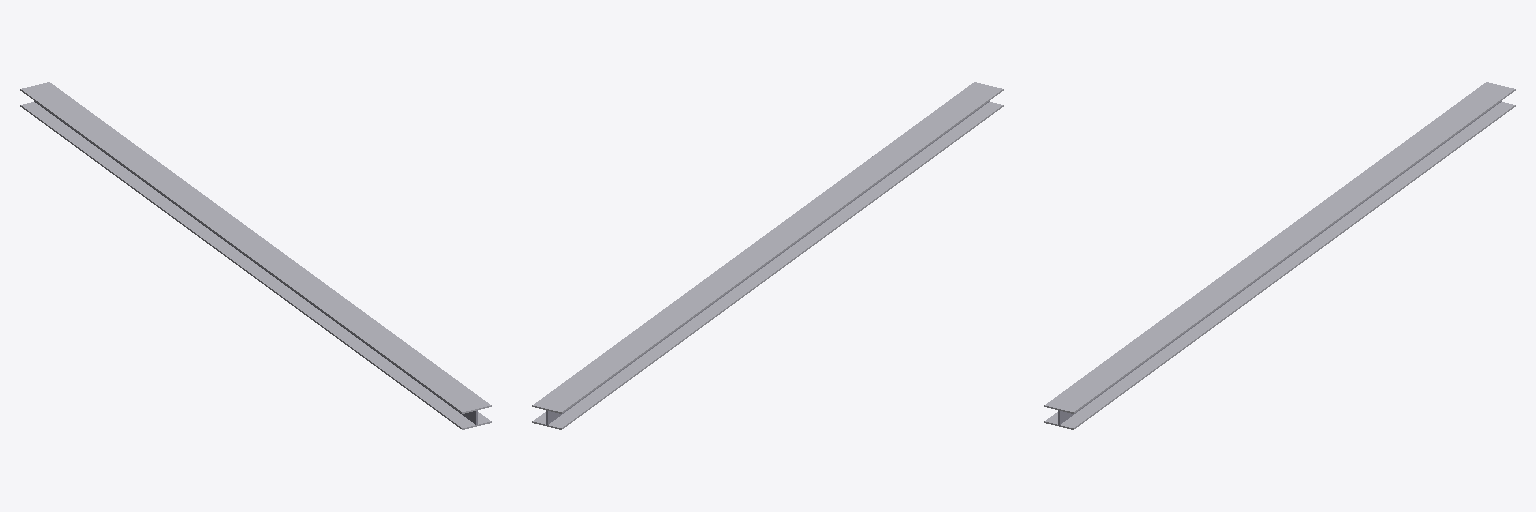
URDF robot description (h_bar):
<?xml version="1.0" ?>
<!-- =================================================================================== -->
<!-- |    This document was autogenerated by xacro from h_bar.xacro                    | -->
<!-- |    EDITING THIS FILE BY HAND IS NOT RECOMMENDED                                 | -->
<!-- =================================================================================== -->
<robot name="h_bar">
  <link name="world"/>
  <!-- Bottom leg (aligned with z-axis after rotation, below origin) -->
  <link name="hbar_bottom_leg">
    <visual>
      <origin rpy="0 1.57079633 0" xyz="0 0 0"/>
      <geometry>
        <!-- thickness x, profile width y, leg length along local z -->
        <box size="0.01 5.0 0.19"/>
      </geometry>
      <material name="hbar_material_bottom">
        <!-- Brushed steel-like gray -->
        <color rgba="0.75 0.75 0.78 1.0"/>
      </material>
    </visual>
    <collision>
      <origin rpy="0 1.57079633 0" xyz="0 0 0"/>
      <geometry>
        <box size="0.01 5.0 0.19"/>
      </geometry>
    </collision>
    <inertial>
      <origin rpy="0 0 0" xyz="0 0 0"/>
      <mass value="0.3333333333333333"/>
      <inertia ixx="0.6954472222222222" ixy="0.0" ixz="0.0" iyy="0.0010055555555555555" iyz="0.0" izz="0.6944472222222222"/>
    </inertial>
  </link>
  <!-- Top leg (aligned with z-axis after rotation, above origin) -->
  <link name="hbar_top_leg">
    <visual>
      <origin rpy="0 1.57079633 0" xyz="0 0 0"/>
      <geometry>
        <box size="0.01 5.0 0.19"/>
      </geometry>
      <material name="hbar_material_top">
        <!-- Brushed steel-like gray -->
        <color rgba="0.75 0.75 0.78 1.0"/>
      </material>
    </visual>
    <collision>
      <origin rpy="0 1.57079633 0" xyz="0 0 0"/>
      <geometry>
        <box size="0.01 5.0 0.19"/>
      </geometry>
    </collision>
    <inertial>
      <origin rpy="0 0 0" xyz="0 0 0"/>
      <mass value="0.3333333333333333"/>
      <inertia ixx="0.6954472222222222" ixy="0.0" ixz="0.0" iyy="0.0010055555555555555" iyz="0.0" izz="0.6944472222222222"/>
    </inertial>
  </link>
  <!-- Crossbar: vertical (aligned with z-axis) at the origin -->
  <link name="hbar_crossbar">
    <visual>
      <!-- Thickness in x,y, length in z -->
      <origin rpy="0 0 0" xyz="0 0 0"/>
      <geometry>
        <box size="0.01 5.0 0.1"/>
      </geometry>
      <material name="hbar_material_cross">
        <!-- Slightly darker steel for visual contrast -->
        <color rgba="0.65 0.65 0.7 1.0"/>
      </material>
    </visual>
    <collision>
      <origin rpy="0 0 0" xyz="0 0 0"/>
      <geometry>
        <box size="0.01 5.0 0.1"/>
      </geometry>
    </collision>
    <inertial>
      <origin rpy="0 0 0" xyz="0 0 0"/>
      <mass value="0.3333333333333333"/>
      <inertia ixx="0.6947222222222222" ixy="0.0" ixz="0.0" iyy="0.0002805555555555556" iyz="0.0" izz="0.6944472222222222"/>
    </inertial>
  </link>
  <!-- Fix crossbar to world; its center is at the macro pose -->
  <joint name="hbar_cross_fix" type="fixed">
    <parent link="world"/>
    <child link="hbar_crossbar"/>
    <origin rpy="0 0 0" xyz="0 0 0"/>
  </joint>
  <!-- Top leg: translated +L_leg/2 in x and +L_span/2 in z relative to crossbar -->
  <joint name="hbar_top_fix" type="fixed">
    <parent link="hbar_crossbar"/>
    <child link="hbar_top_leg"/>
    <origin rpy="0 0.0 0" xyz="0 0 0.05"/>
  </joint>
  <!-- Bottom leg: translated +L_leg/2 in x and -L_span/2 in z relative to crossbar -->
  <joint name="hbar_bottom_fix" type="fixed">
    <parent link="hbar_crossbar"/>
    <child link="hbar_bottom_leg"/>
    <origin rpy="0 0 0" xyz="0 0 -0.05"/>
  </joint>
</robot>

--- Facts derived from the render (not from the file) ---
3 views of the same robot in one strip: view 1: azimuth 30°, elevation 25°; view 2: azimuth 150°, elevation 25°; view 3: azimuth 330°, elevation 25° (orthographic).
Model h_bar with 4 links and 3 joints (3 fixed), rooted at world, posed all joints at 0.
Visible links, largest first — view 1: hbar_top_leg, hbar_bottom_leg, hbar_crossbar; view 2: hbar_top_leg, hbar_bottom_leg, hbar_crossbar; view 3: hbar_top_leg, hbar_bottom_leg, hbar_crossbar.
Link boxes in pixels (bbox=[...]): hbar_top_leg: bbox=[20, 82, 491, 413]; hbar_bottom_leg: bbox=[20, 102, 491, 429]; hbar_crossbar: bbox=[34, 101, 477, 424]; hbar_top_leg: bbox=[532, 82, 1003, 413]; hbar_bottom_leg: bbox=[532, 102, 1003, 429]; hbar_crossbar: bbox=[546, 101, 989, 425]; hbar_top_leg: bbox=[1044, 82, 1515, 413]; hbar_bottom_leg: bbox=[1044, 102, 1515, 429]; hbar_crossbar: bbox=[1058, 101, 1501, 425].
Bounding box of the posed robot: 0.19 × 5 × 0.11 m (x, y, z).
Geometry: primitives only (box / cylinder / sphere), no mesh files.
